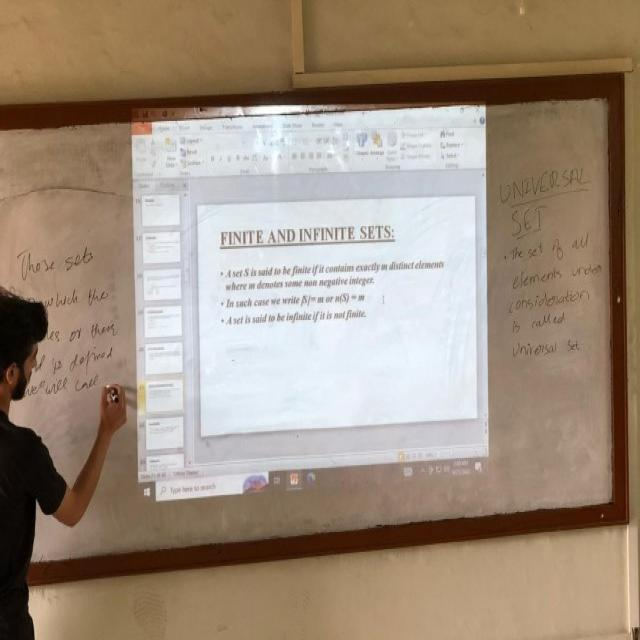Instructor: (0, 260, 67, 634)
Slide: (127, 100, 489, 503)
White-board: (0, 86, 617, 579)
